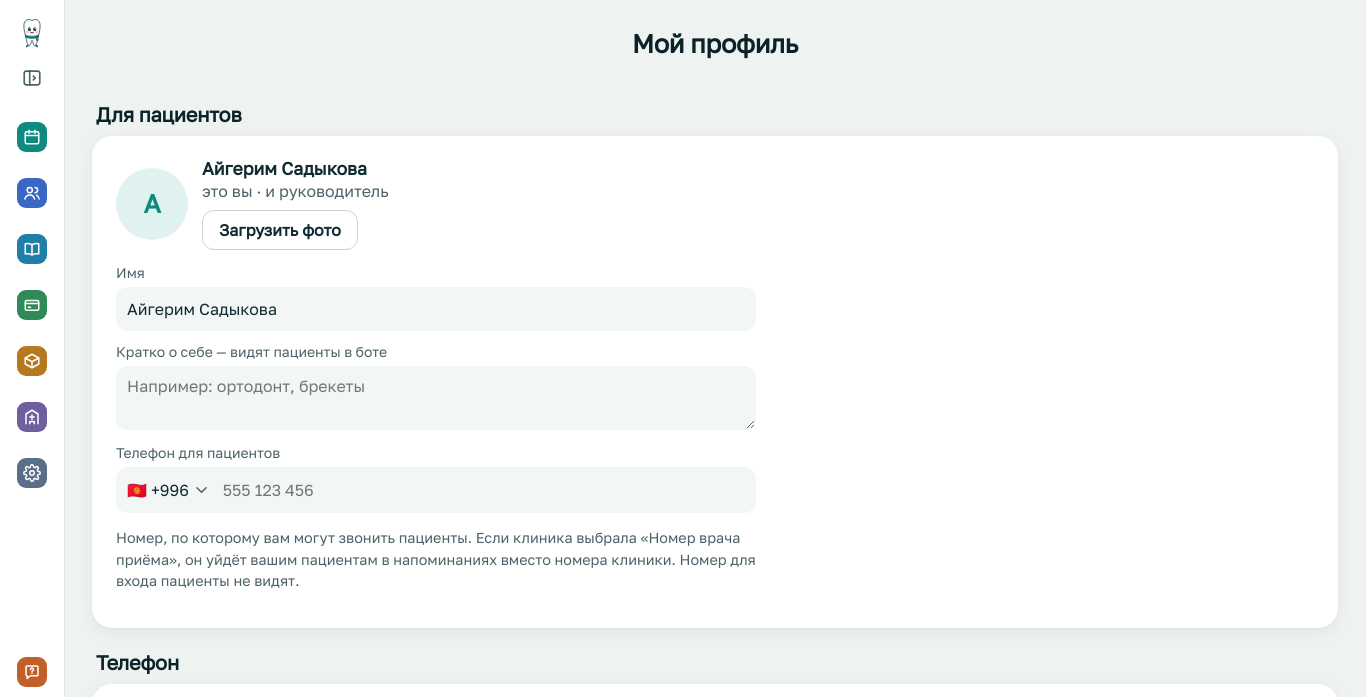
Test: «Телефон для пациентов» в «Моём профиле»: номер сохраняется цифрами с кодом, пусто — убрать
The width and height of the screenshot is (1366, 697).
Type "0700123456" into the field labelled "Телефон для пациентов" at (485, 490), box [215, 468, 755, 512]
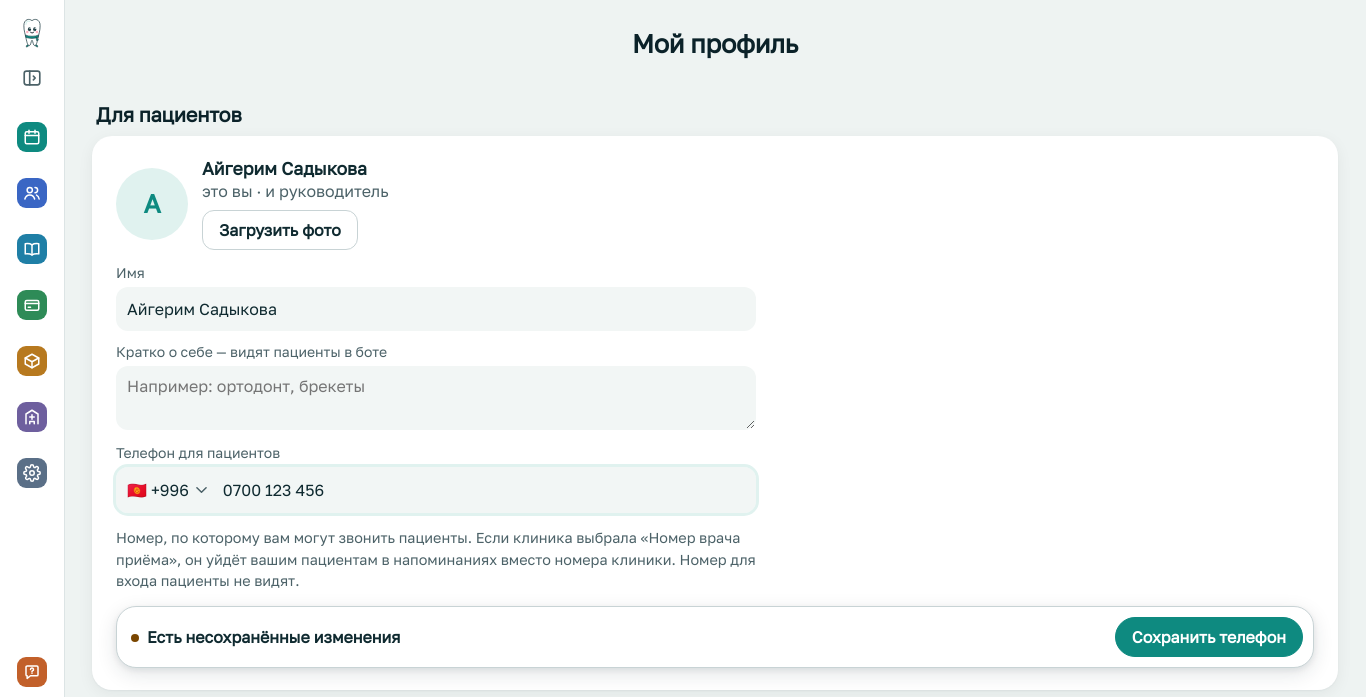
Click the button "Сохранить телефон" at (1209, 637), box [1115, 617, 1303, 657]
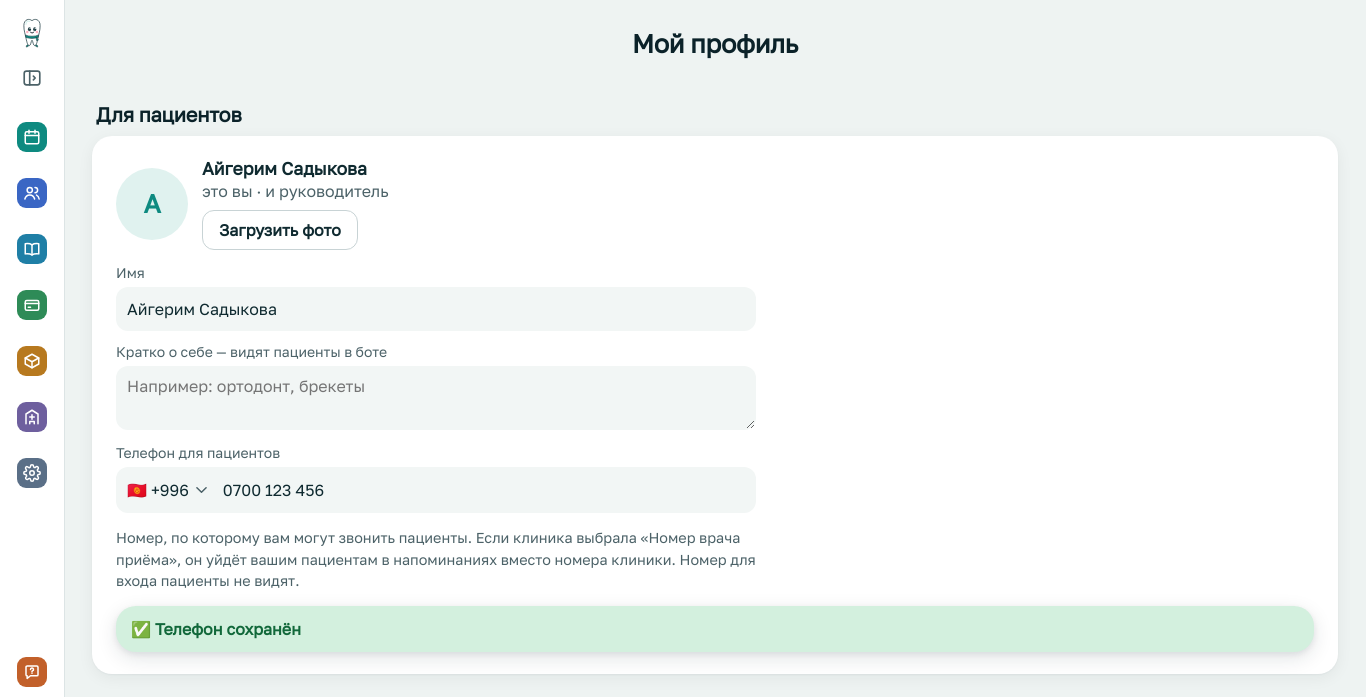
Expected: the text "Телефон сохранён" is shown, [155, 619, 301, 639]
